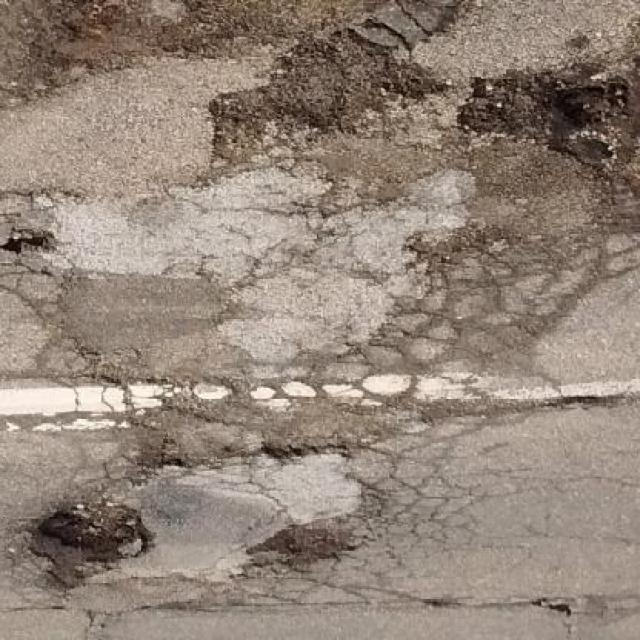pothole: (24, 494, 156, 592)
